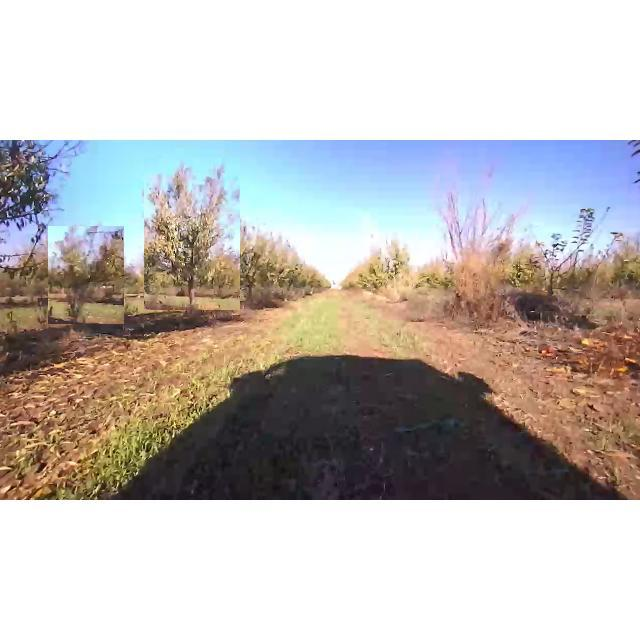direk: (144, 157, 240, 310), (432, 178, 518, 326), (528, 204, 618, 320), (48, 226, 124, 324), (226, 230, 272, 306), (377, 239, 413, 299)
